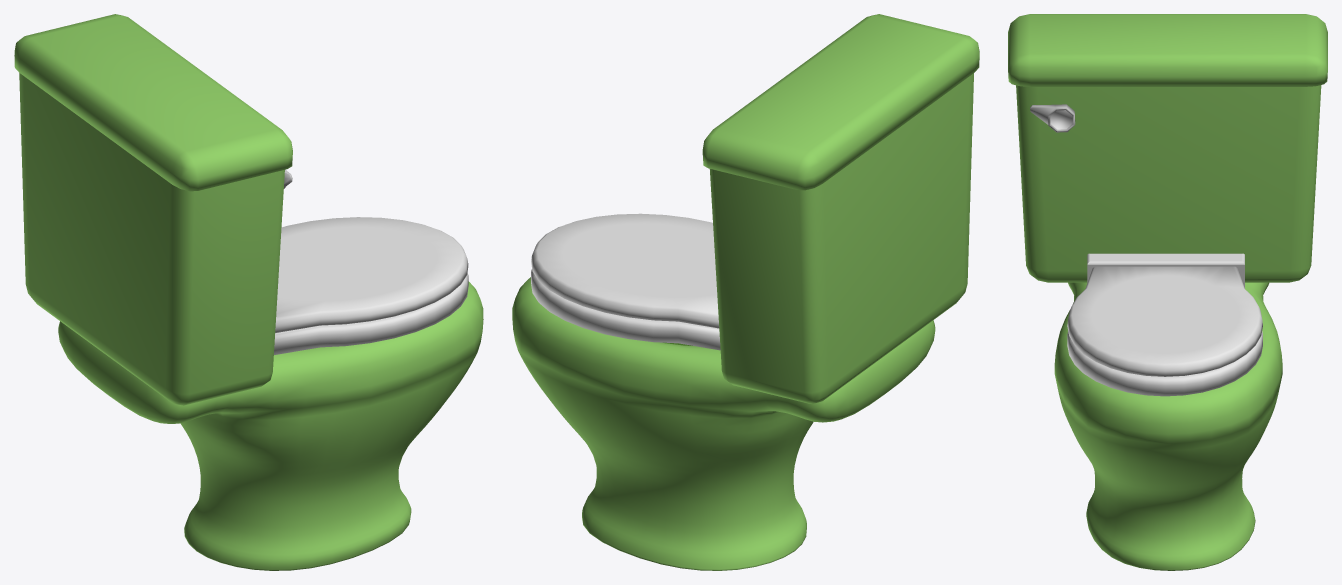
Rendered from retrete.obj.
3 renders of one model, left to right at view 1: azimuth 30°, elevation 25°; view 2: azimuth 150°, elevation 25°; view 3: azimuth 270°, elevation 25°, orthographic. The views are drawn at different scales.
Visible parts, largest first — view 1: Cube.000; view 2: Cube.000; view 3: Cube.000.
Part boxes in pixels (box(x1,y1,x2,y2)): Cube.000: box(14, 14, 483, 570); Cube.000: box(512, 14, 979, 570); Cube.000: box(1008, 14, 1327, 570).
Size of the model in its own units: 4.27 by 5.26 by 3.54.
2 materials, 2 textured.
